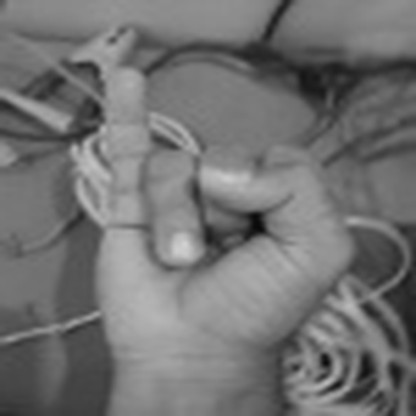i: (91, 63, 362, 369)
